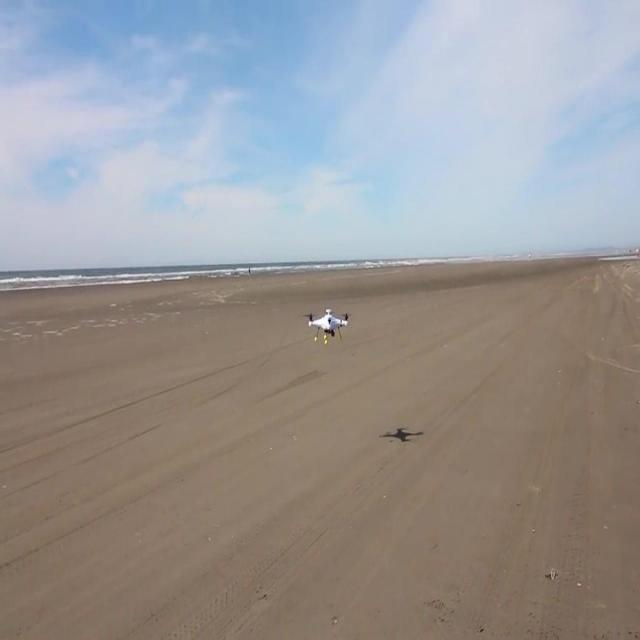UAV: (302, 308, 351, 345)
